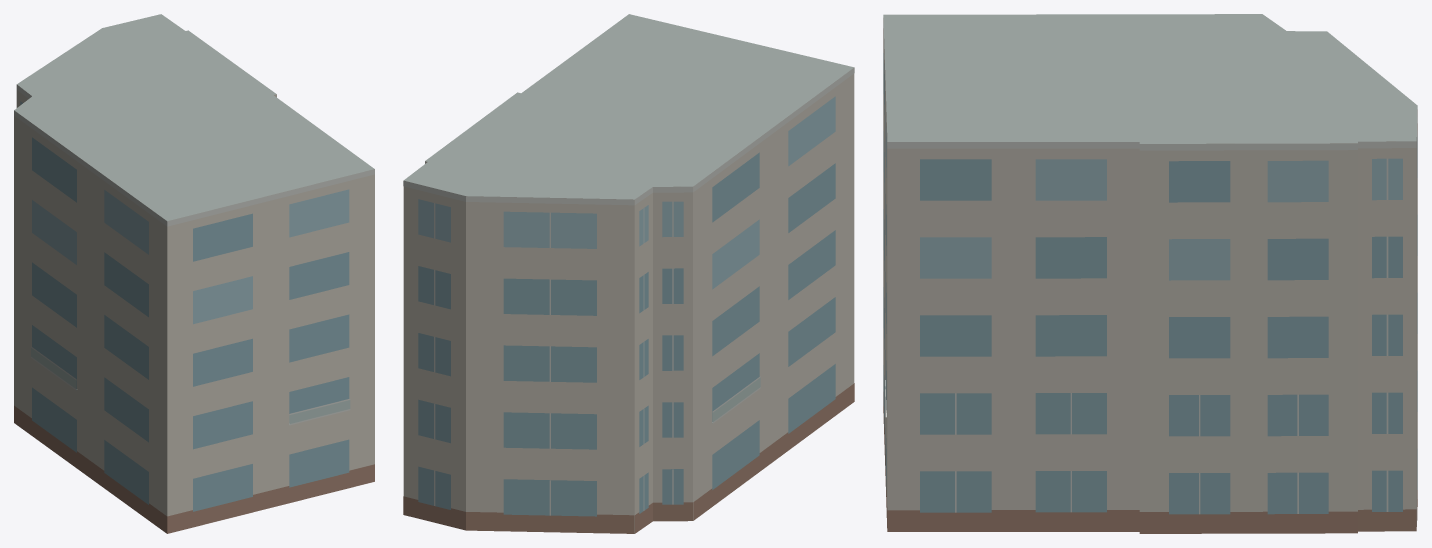
Rendered from survey-upis-32749182.glb.
3 renders of one model, left to right at view 1: azimuth 30°, elevation 25°; view 2: azimuth 150°, elevation 25°; view 3: azimuth 270°, elevation 25°, orthographic. The views are drawn at different scales.
Visible parts, largest first — view 1: survey-upis-32749182.tmp; view 2: survey-upis-32749182.tmp; view 3: survey-upis-32749182.tmp.
Boxes of the visible parts, left/top/right/bottom form: survey-upis-32749182.tmp: left=14, top=14, right=374, bottom=533; survey-upis-32749182.tmp: left=403, top=14, right=854, bottom=533; survey-upis-32749182.tmp: left=883, top=14, right=1417, bottom=533.
Size of the model in its own units: 10.12 by 14.1 by 17.52.
